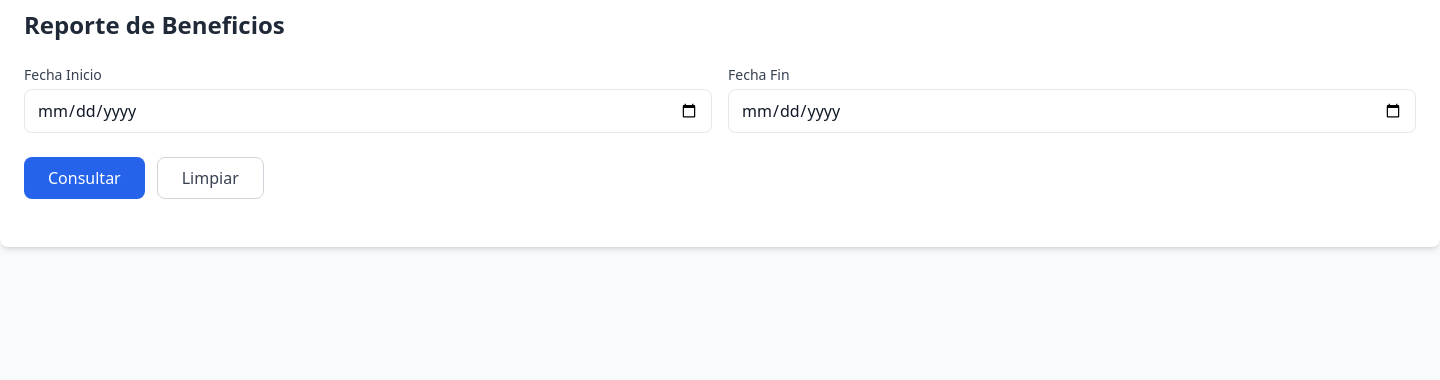
Scenario: BeneficiosReport › deshabilita el botón mientras carga
The width and height of the screenshot is (1440, 380).
// Hacer clic para iniciar carga
What coordinates should you click on to do the following:
click the button "Consultar"
I would click on:
 (84, 178)
Its box is [24,157,145,199].
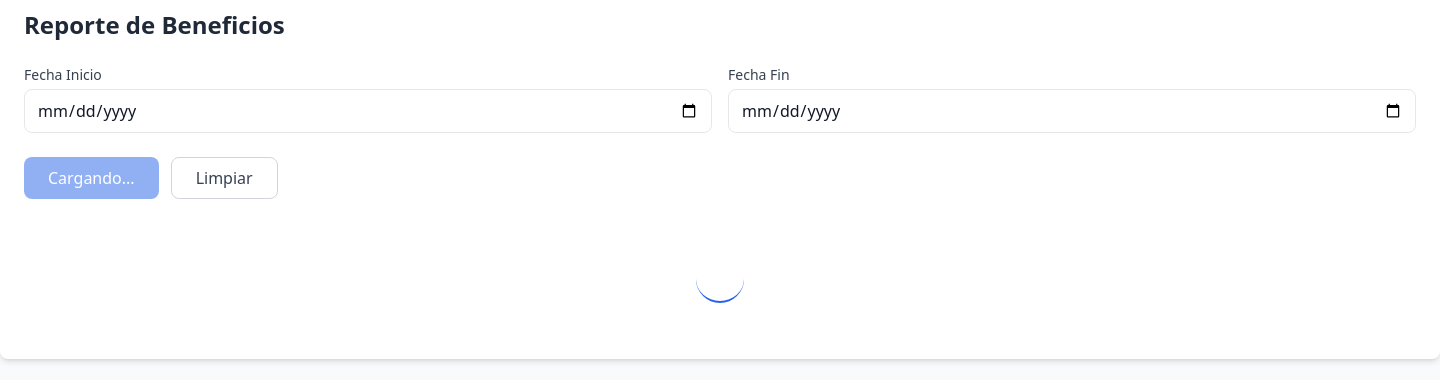
Now the button "Cargando..." is disabled, box [24,157,159,199]
